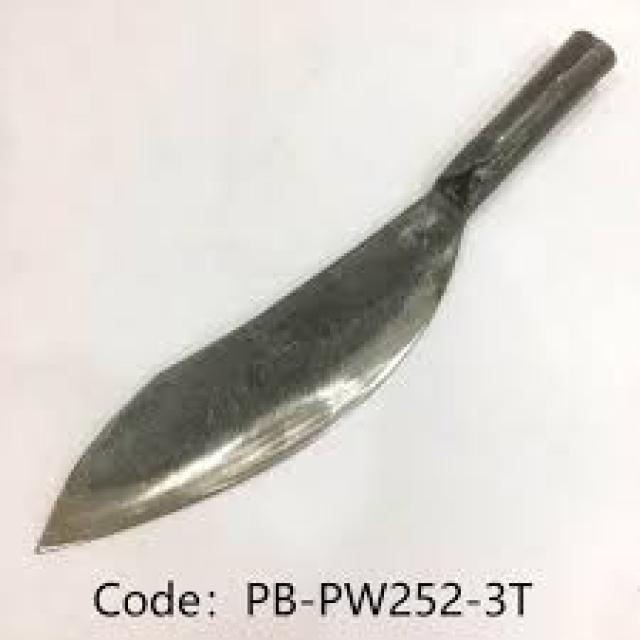Knife: (34, 28, 612, 552)
